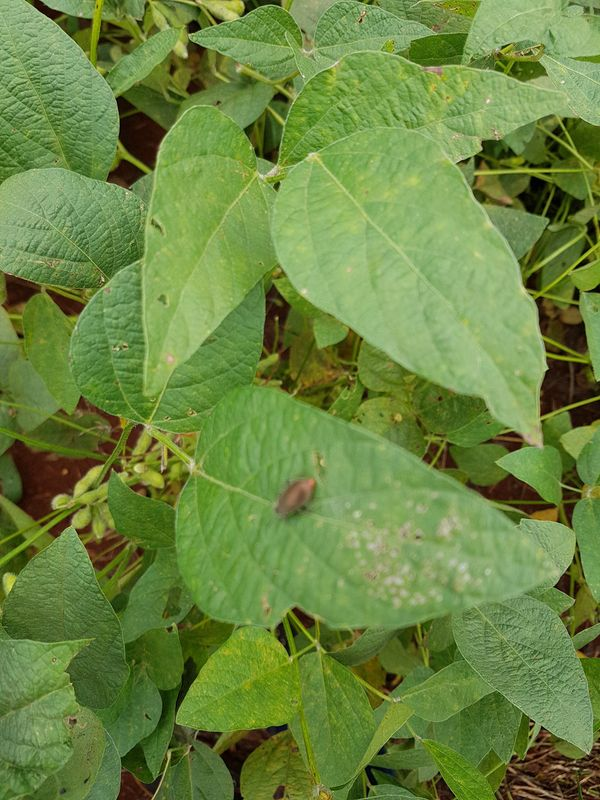Lagria_villosa: (265, 469, 324, 531)
